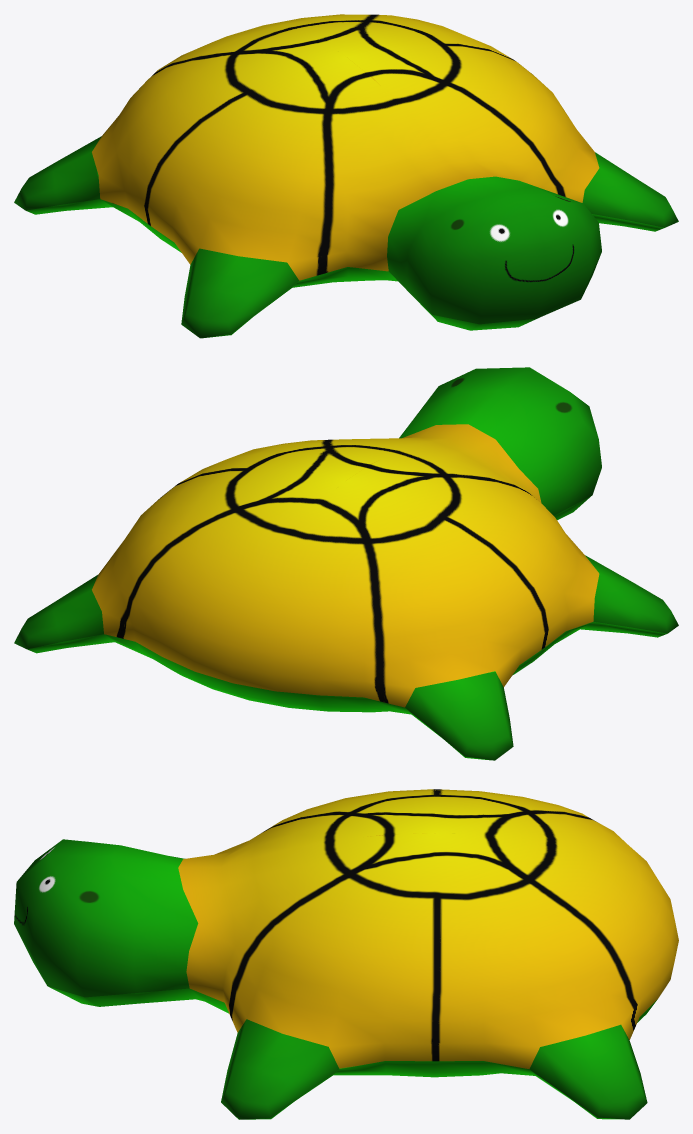
The model's file is turtle.fbx.
3 views of the same model, one above another, from view 1: azimuth 30°, elevation 25°; view 2: azimuth 150°, elevation 25°; view 3: azimuth 270°, elevation 25° (orthographic). The views are drawn at different scales.
Visible parts, largest first — view 1: turtle; view 2: turtle; view 3: turtle.
Part boxes in pixels (x1,y1,x2,y2): turtle: (14, 14, 678, 338); turtle: (14, 367, 678, 760); turtle: (14, 789, 678, 1119).
Bounding box in the file's own units: 0.2004 × 0.224 × 0.066.
